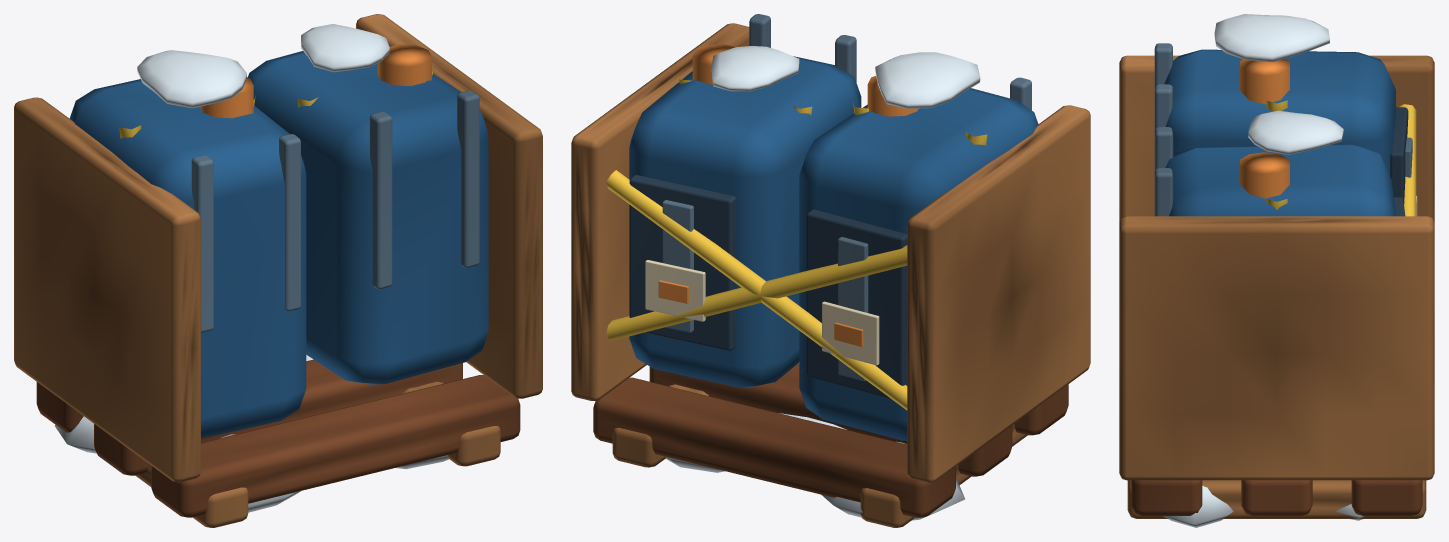
Rendered from fuel_canister.glb.
3 views of the same model, side by side, from view 1: azimuth 30°, elevation 25°; view 2: azimuth 150°, elevation 25°; view 3: azimuth 270°, elevation 25° (orthographic). The views are drawn at different scales.
Visible parts, largest first — view 1: fuel_canister; view 2: fuel_canister; view 3: fuel_canister.
Boxes of the visible parts, <box> form: fuel_canister: <box>14,14,542,527</box>; fuel_canister: <box>571,14,1090,527</box>; fuel_canister: <box>1119,14,1434,527</box>.
Bounding box in the file's own units: 1.02 × 1.08 × 0.78.
